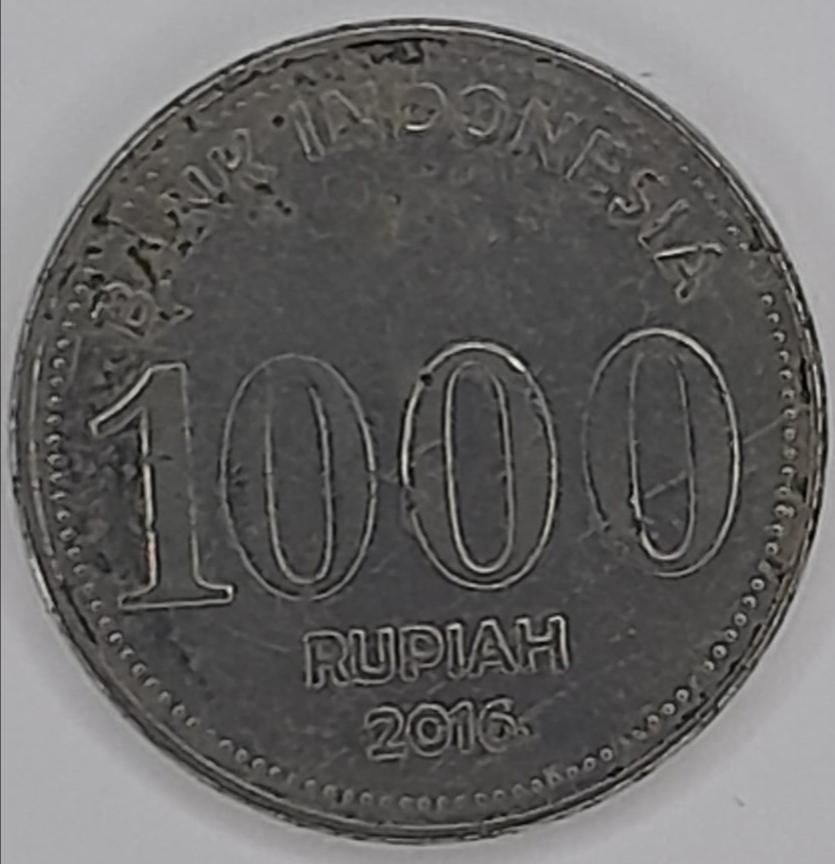coin_1000_e2016: (14, 17, 824, 864)
